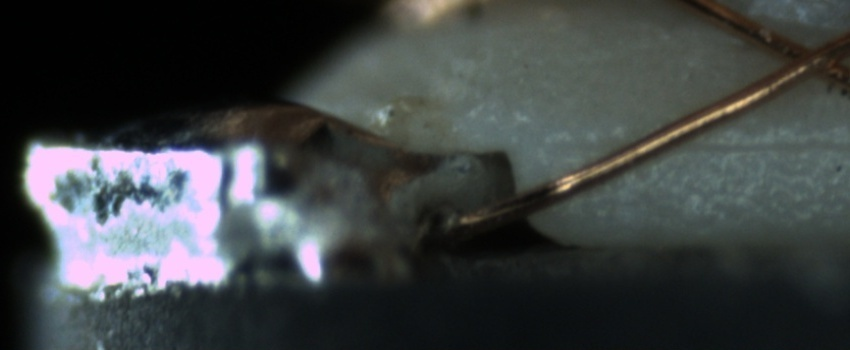CL: (760, 22, 847, 92)
DL: (563, 113, 847, 174)
